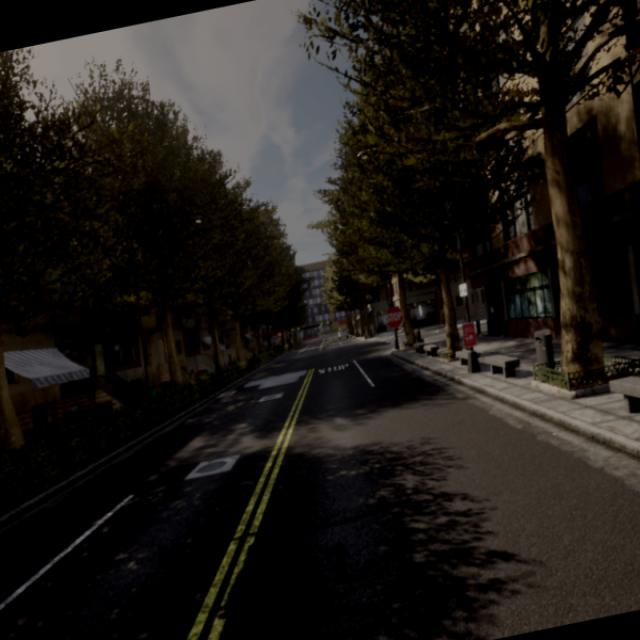stop sign: (383, 303, 405, 331)
